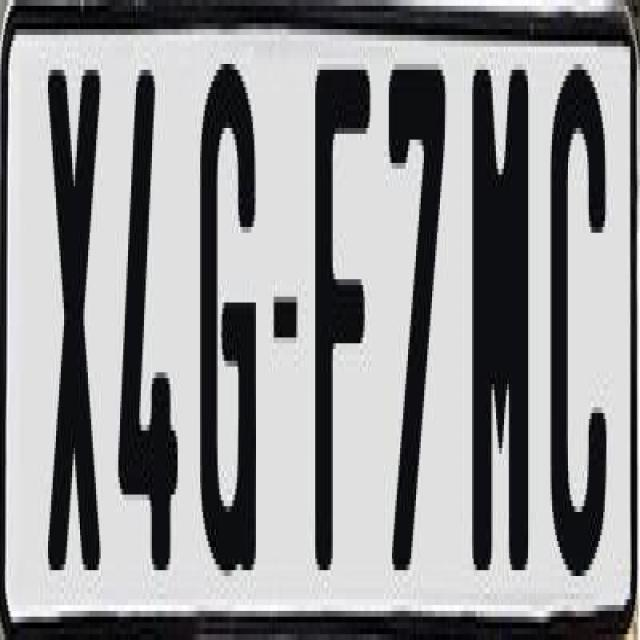4: (118, 64, 181, 570)
7: (386, 58, 448, 564)
C: (546, 58, 612, 599)
F: (314, 58, 376, 564)
G: (198, 46, 254, 594)
M: (469, 70, 528, 582)
X: (48, 52, 102, 576)
